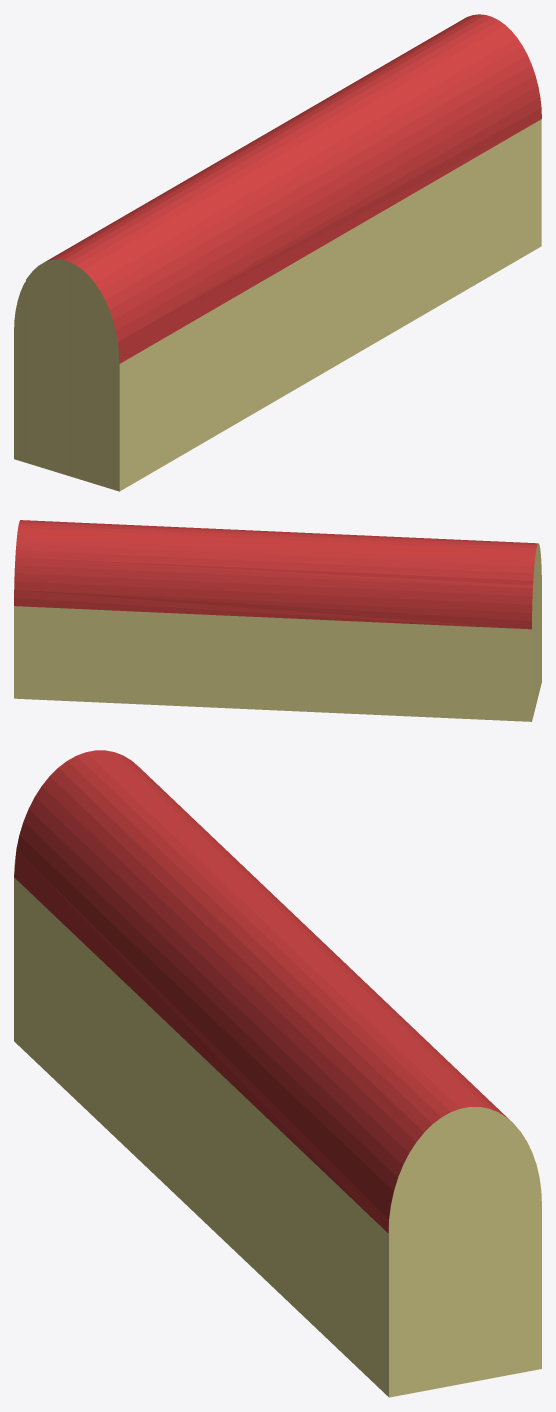
3 views of the same model, one above another, from view 1: azimuth 30°, elevation 25°; view 2: azimuth 150°, elevation 25°; view 3: azimuth 270°, elevation 25° (orthographic). The views are drawn at different scales.
Bounding box in the file's own units: 16.94 × 9.81 × 5.65.
